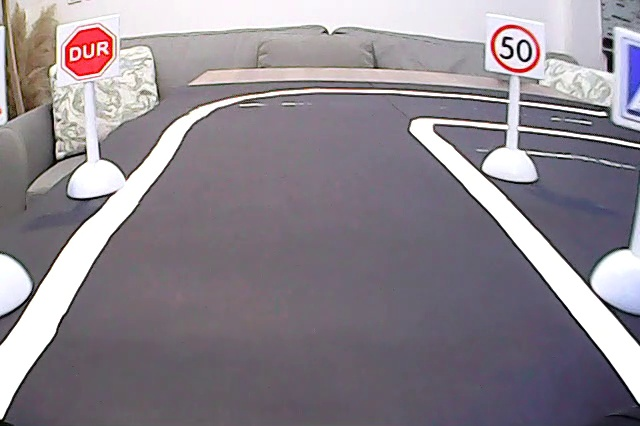speed limit 50: (490, 18, 545, 74)
stop sign: (62, 27, 118, 83)
